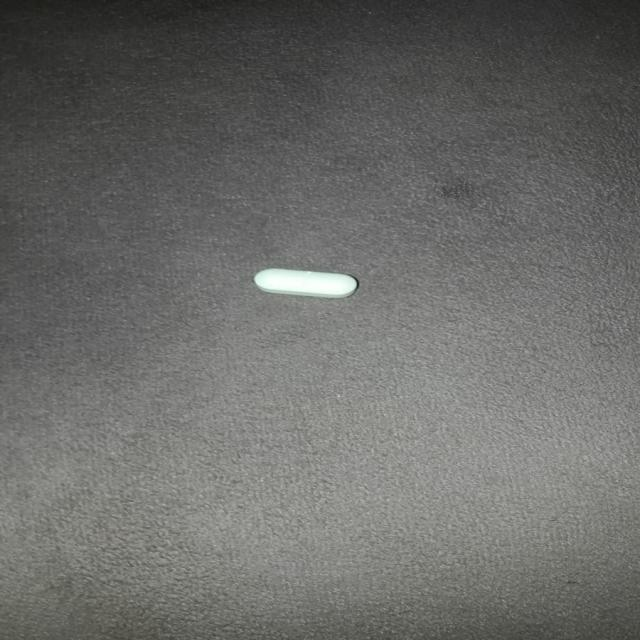pills: (240, 258, 367, 310)
